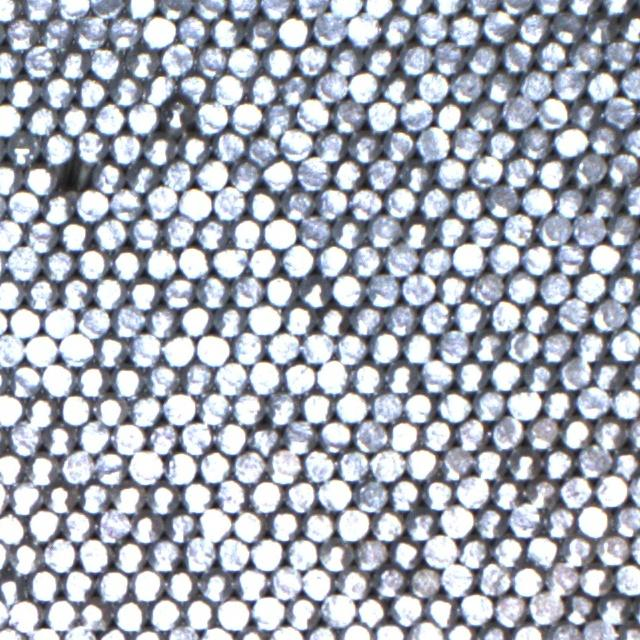tool: (383, 242, 418, 276), (128, 449, 162, 484), (281, 419, 315, 454), (594, 472, 628, 507), (558, 472, 592, 507), (422, 533, 457, 567), (336, 506, 370, 541), (354, 536, 388, 570), (282, 359, 316, 393), (572, 152, 606, 186), (196, 274, 230, 308), (576, 503, 610, 537), (384, 302, 418, 336), (335, 447, 369, 481), (248, 359, 282, 393), (42, 537, 76, 571), (556, 297, 590, 331), (8, 480, 42, 514), (144, 184, 178, 218), (266, 507, 300, 541), (436, 328, 470, 362), (22, 43, 56, 77), (230, 273, 264, 307), (40, 362, 74, 396), (594, 532, 628, 566), (476, 561, 510, 595), (420, 357, 454, 391), (578, 562, 612, 596), (518, 125, 552, 159), (499, 38, 533, 72), (72, 14, 106, 48), (320, 592, 354, 626), (522, 359, 556, 393), (544, 560, 578, 594), (439, 503, 473, 537), (110, 364, 144, 398), (265, 390, 299, 424), (199, 568, 233, 602), (318, 476, 351, 511), (489, 415, 524, 448), (78, 537, 111, 571), (6, 245, 40, 278), (267, 448, 300, 482), (24, 333, 58, 366), (77, 305, 110, 339), (77, 419, 110, 453), (129, 332, 162, 366), (59, 332, 92, 366), (249, 479, 282, 513), (28, 507, 61, 541), (418, 300, 452, 333), (485, 126, 518, 160), (247, 302, 281, 335), (182, 596, 215, 630), (250, 537, 284, 570), (402, 271, 435, 305), (93, 452, 127, 485), (370, 446, 403, 480), (145, 421, 179, 454), (298, 274, 331, 308), (355, 478, 388, 512), (197, 507, 231, 540), (24, 219, 58, 252), (8, 598, 41, 632), (148, 597, 182, 630), (284, 478, 317, 512), (296, 156, 330, 189), (296, 97, 330, 130), (147, 538, 181, 571), (96, 508, 130, 541), (216, 536, 249, 570), (573, 329, 607, 362), (332, 99, 365, 133), (483, 69, 517, 102), (24, 104, 58, 137), (538, 270, 571, 304), (269, 564, 302, 598), (450, 125, 483, 159), (369, 388, 402, 422), (472, 446, 505, 480), (130, 567, 164, 600), (92, 217, 126, 250), (606, 212, 640, 245), (488, 299, 522, 332), (144, 362, 178, 395), (438, 445, 471, 479), (215, 478, 248, 512), (353, 418, 386, 452), (506, 446, 539, 480), (441, 562, 474, 596), (348, 187, 382, 220), (539, 328, 572, 362), (332, 216, 366, 249), (265, 330, 299, 363), (388, 477, 421, 511), (284, 595, 318, 628), (472, 387, 506, 420), (318, 538, 352, 571), (468, 153, 502, 186), (76, 364, 110, 397), (211, 72, 244, 106), (251, 594, 284, 628), (384, 360, 418, 393), (313, 128, 346, 162), (465, 40, 498, 74), (592, 298, 625, 332), (96, 568, 129, 602), (6, 130, 40, 163), (416, 125, 449, 159), (366, 213, 399, 247), (162, 390, 196, 423), (213, 304, 246, 338), (112, 598, 146, 631), (592, 416, 626, 449), (180, 419, 212, 454), (93, 275, 126, 308), (456, 474, 489, 507), (182, 536, 215, 569), (198, 449, 231, 482), (92, 101, 125, 134), (144, 245, 177, 278), (232, 449, 265, 482), (470, 270, 503, 303), (350, 303, 383, 336), (42, 305, 75, 338), (535, 95, 568, 128), (179, 187, 212, 220), (558, 356, 591, 389), (5, 16, 38, 49), (507, 387, 540, 420), (300, 331, 333, 364), (505, 270, 538, 303), (230, 101, 263, 134), (407, 564, 440, 597), (7, 305, 40, 338), (126, 101, 159, 134), (473, 506, 506, 539), (181, 479, 214, 512), (471, 330, 504, 363), (331, 272, 364, 305), (196, 333, 229, 366), (371, 509, 404, 542), (536, 155, 569, 188), (525, 533, 558, 566), (455, 359, 488, 392), (576, 384, 609, 417), (195, 100, 228, 133), (603, 95, 636, 128), (78, 481, 111, 514), (482, 9, 515, 42), (431, 40, 464, 73), (349, 243, 382, 276), (607, 270, 640, 303), (130, 510, 163, 543), (217, 596, 250, 629), (351, 361, 384, 394), (382, 128, 415, 161), (606, 152, 639, 185), (302, 448, 335, 481), (283, 303, 316, 336), (510, 564, 543, 597), (281, 243, 314, 276), (146, 481, 179, 514), (209, 15, 242, 48), (94, 393, 127, 426), (177, 71, 210, 104), (177, 131, 210, 164), (195, 157, 228, 190), (453, 299, 486, 332), (587, 184, 620, 217), (560, 533, 593, 566), (534, 38, 567, 71), (145, 305, 178, 338), (577, 443, 610, 476), (262, 158, 295, 191), (141, 14, 174, 47), (335, 389, 368, 422), (404, 508, 437, 541), (459, 591, 492, 624), (434, 213, 467, 246), (41, 130, 74, 163), (231, 391, 264, 424), (94, 333, 127, 366), (372, 564, 405, 597), (245, 132, 278, 165), (518, 67, 551, 100), (530, 590, 563, 623), (452, 241, 485, 274), (524, 477, 557, 510), (346, 130, 379, 163), (316, 359, 349, 392), (420, 417, 453, 450), (543, 505, 576, 538), (588, 240, 621, 273), (487, 240, 520, 273), (25, 395, 58, 428), (401, 157, 434, 190), (6, 188, 39, 221), (197, 392, 230, 425), (212, 245, 245, 278), (366, 273, 399, 306), (554, 241, 587, 274), (467, 98, 500, 131), (365, 156, 398, 189), (455, 416, 488, 449), (297, 214, 330, 247), (113, 539, 146, 572), (165, 568, 198, 601), (311, 11, 344, 44), (314, 70, 347, 103), (425, 593, 458, 626), (215, 420, 248, 453), (264, 274, 297, 307), (161, 215, 194, 248), (61, 568, 94, 601), (161, 100, 194, 133), (280, 126, 312, 160), (422, 477, 456, 509), (232, 507, 264, 541), (296, 41, 328, 75), (506, 328, 538, 362), (434, 98, 466, 132), (78, 597, 110, 631), (502, 94, 534, 128), (554, 124, 586, 158), (489, 357, 521, 391), (129, 392, 161, 426), (27, 452, 59, 486), (435, 154, 467, 188), (284, 536, 318, 568), (458, 534, 490, 568), (402, 390, 436, 422), (108, 15, 140, 49), (162, 275, 194, 309), (128, 215, 160, 249), (111, 304, 143, 338), (491, 533, 523, 567), (75, 188, 109, 220), (597, 593, 631, 625), (214, 360, 246, 394), (388, 592, 422, 624), (516, 10, 550, 42), (609, 326, 640, 361), (7, 75, 39, 108), (180, 303, 212, 336), (42, 247, 74, 280), (128, 277, 160, 310), (44, 598, 77, 630), (194, 43, 226, 76), (75, 130, 108, 162), (436, 271, 468, 304), (398, 42, 431, 74), (331, 157, 364, 189), (334, 332, 367, 364), (232, 330, 264, 363), (507, 504, 540, 536), (347, 70, 380, 102), (180, 362, 213, 394), (109, 130, 141, 163), (227, 44, 259, 77), (586, 68, 618, 101), (405, 446, 437, 479), (588, 123, 620, 156), (573, 270, 606, 302), (400, 97, 432, 130), (178, 244, 210, 277), (243, 16, 275, 49), (162, 333, 194, 366), (246, 244, 278, 277), (486, 183, 519, 215), (302, 509, 334, 542), (26, 277, 58, 310), (402, 331, 434, 364), (279, 72, 311, 105), (368, 330, 400, 363), (229, 159, 262, 191), (538, 212, 570, 245), (160, 42, 192, 75), (142, 72, 175, 104), (522, 302, 555, 334), (450, 68, 482, 101), (330, 43, 362, 76), (520, 183, 553, 215), (381, 72, 414, 104), (58, 218, 91, 250), (280, 187, 313, 219), (554, 185, 586, 218), (337, 566, 370, 598), (572, 211, 604, 244), (234, 566, 267, 598), (41, 422, 74, 454), (110, 247, 142, 280), (109, 187, 141, 220), (553, 65, 585, 98), (142, 132, 174, 165), (213, 186, 245, 219), (248, 422, 281, 454), (318, 419, 350, 452), (60, 277, 92, 310), (503, 212, 536, 244), (302, 566, 334, 599), (452, 186, 485, 218), (164, 451, 196, 484), (111, 422, 144, 454), (346, 12, 378, 45), (389, 536, 421, 569), (418, 185, 450, 218), (263, 216, 296, 248), (414, 11, 446, 44), (300, 390, 333, 422), (27, 568, 60, 600), (213, 129, 245, 162), (164, 510, 197, 542), (62, 509, 94, 542), (542, 387, 574, 420), (552, 10, 584, 43), (468, 213, 500, 246), (386, 418, 419, 450), (59, 392, 92, 424), (494, 592, 526, 625), (354, 593, 386, 626), (262, 102, 294, 135), (448, 12, 480, 45), (315, 243, 348, 275), (381, 12, 413, 45), (568, 39, 600, 72), (38, 16, 70, 49), (365, 98, 397, 131), (602, 38, 635, 70), (592, 357, 624, 390), (112, 482, 144, 515), (364, 43, 396, 76), (542, 445, 574, 478), (401, 216, 434, 248), (42, 75, 74, 107), (246, 73, 278, 105), (76, 246, 108, 278), (384, 185, 416, 217), (438, 389, 470, 421), (230, 216, 262, 248), (503, 156, 535, 188), (126, 47, 158, 79), (196, 217, 228, 249), (8, 422, 40, 454), (419, 243, 451, 275), (76, 76, 108, 108), (521, 242, 553, 274), (58, 103, 90, 135), (108, 75, 140, 107), (57, 48, 89, 80), (177, 14, 209, 46), (247, 188, 279, 220), (262, 44, 294, 76), (277, 14, 309, 46), (24, 162, 56, 194), (41, 192, 73, 224), (92, 160, 124, 192), (560, 416, 592, 448), (8, 364, 40, 396), (89, 46, 121, 78), (161, 158, 193, 190), (127, 162, 159, 194), (44, 482, 76, 514), (563, 592, 595, 624), (8, 543, 40, 575), (316, 186, 348, 218), (490, 477, 522, 509), (526, 416, 558, 448), (416, 70, 448, 102), (317, 305, 349, 337), (568, 97, 600, 129), (61, 450, 92, 483), (584, 13, 616, 44), (64, 156, 95, 188), (610, 385, 640, 418), (610, 446, 640, 479), (612, 503, 640, 537), (613, 560, 640, 594), (0, 511, 26, 544), (0, 276, 24, 310), (0, 452, 25, 484), (0, 571, 25, 602), (0, 334, 24, 366), (0, 217, 23, 250), (0, 393, 23, 426), (407, 619, 442, 640), (582, 618, 615, 640), (0, 46, 22, 78), (0, 102, 22, 134), (0, 162, 22, 194), (618, 12, 640, 44), (546, 620, 580, 640), (22, 0, 54, 21), (620, 66, 640, 99), (56, 0, 89, 20), (510, 621, 544, 640), (372, 621, 406, 640), (260, 0, 293, 19), (621, 181, 640, 214), (227, 0, 260, 19), (193, 0, 226, 19), (442, 622, 476, 640), (338, 622, 372, 640), (476, 622, 509, 640), (125, 0, 158, 18), (268, 623, 302, 640), (294, 0, 328, 17), (158, 0, 192, 17), (622, 124, 640, 156), (362, 0, 394, 18), (91, 0, 123, 18), (329, 0, 361, 17), (624, 239, 640, 273), (304, 624, 337, 640), (566, 0, 599, 16), (26, 625, 60, 640), (600, 0, 634, 15), (61, 625, 95, 640), (166, 625, 199, 640), (200, 625, 233, 640), (396, 0, 429, 15), (625, 357, 640, 390), (465, 0, 497, 15), (498, 0, 532, 14), (431, 0, 464, 14), (533, 0, 566, 14), (616, 621, 640, 640), (626, 300, 640, 332), (0, 0, 20, 21)
